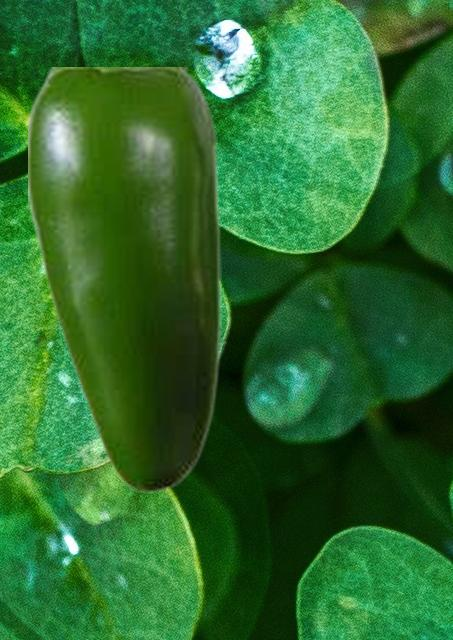green_chili: (28, 67, 220, 493)
